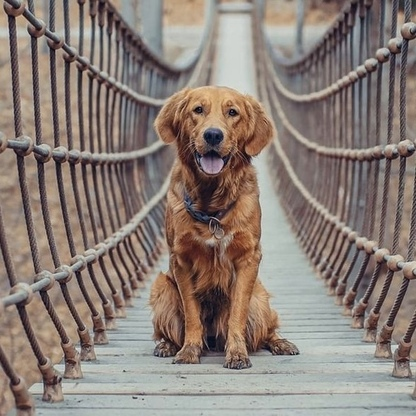labrado: (141, 77, 307, 373)
